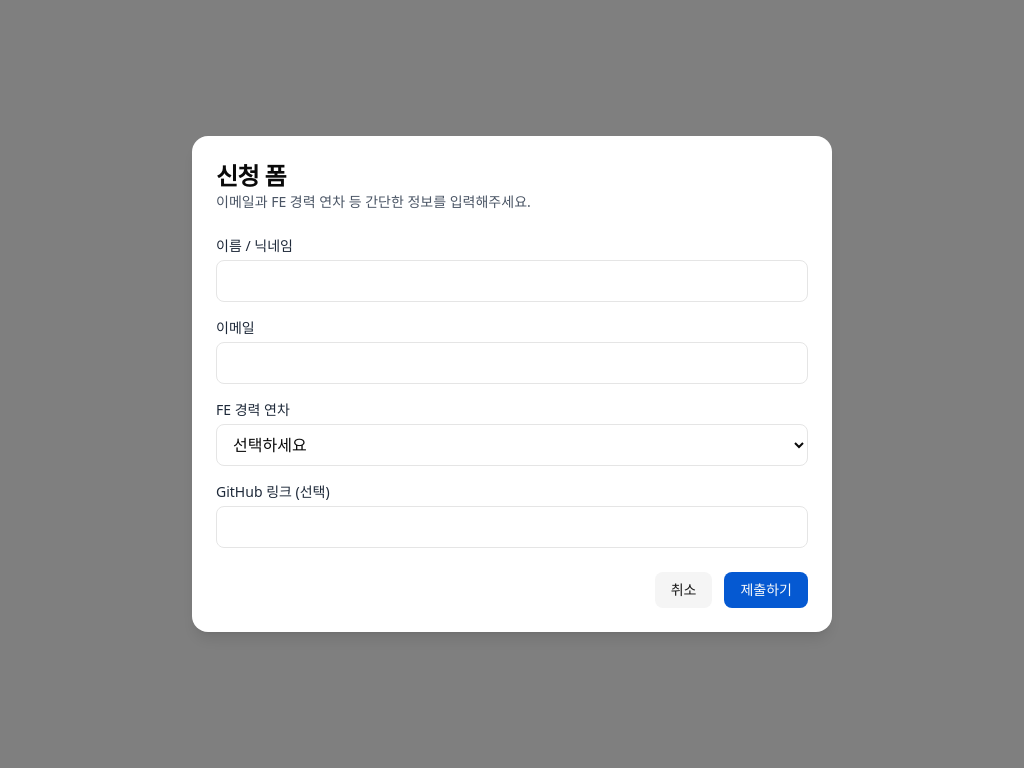
it: DeveloperFormModal › 잘못된 이메일 형식 시 오류를 표시한다
Type "테스트" into the field labelled "이름 / 닉네임" at (512, 281), box left=216, top=260, right=808, bottom=302
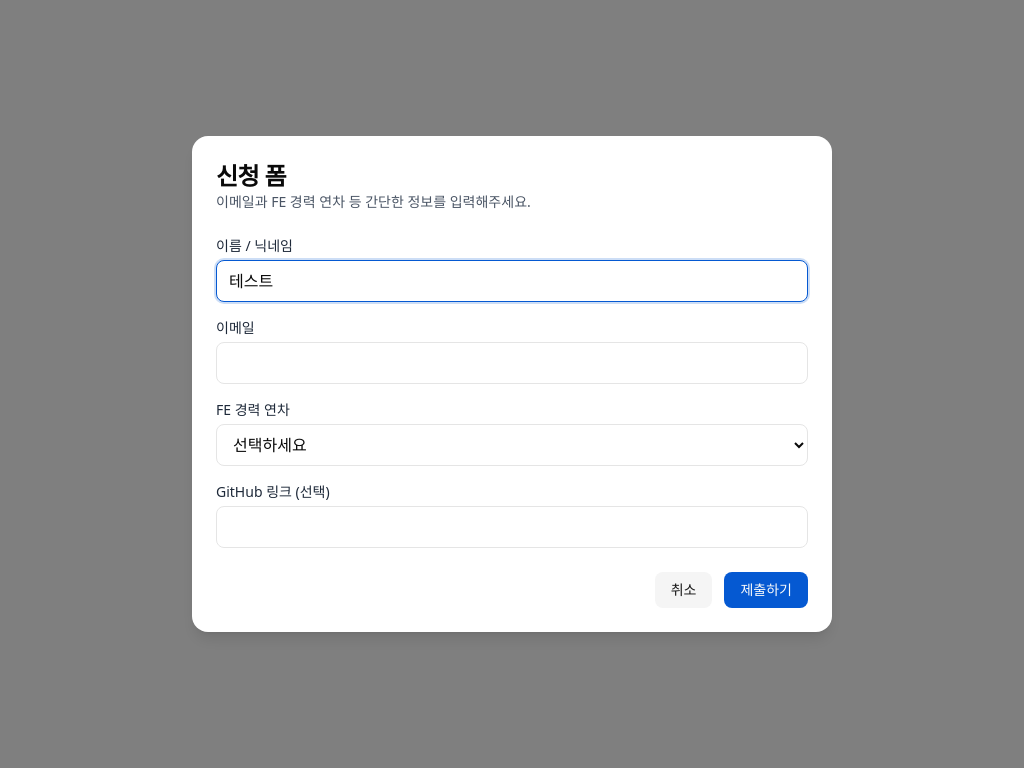
Type "invalid-email" into the field labelled "이메일" at (512, 363), box left=216, top=342, right=808, bottom=384
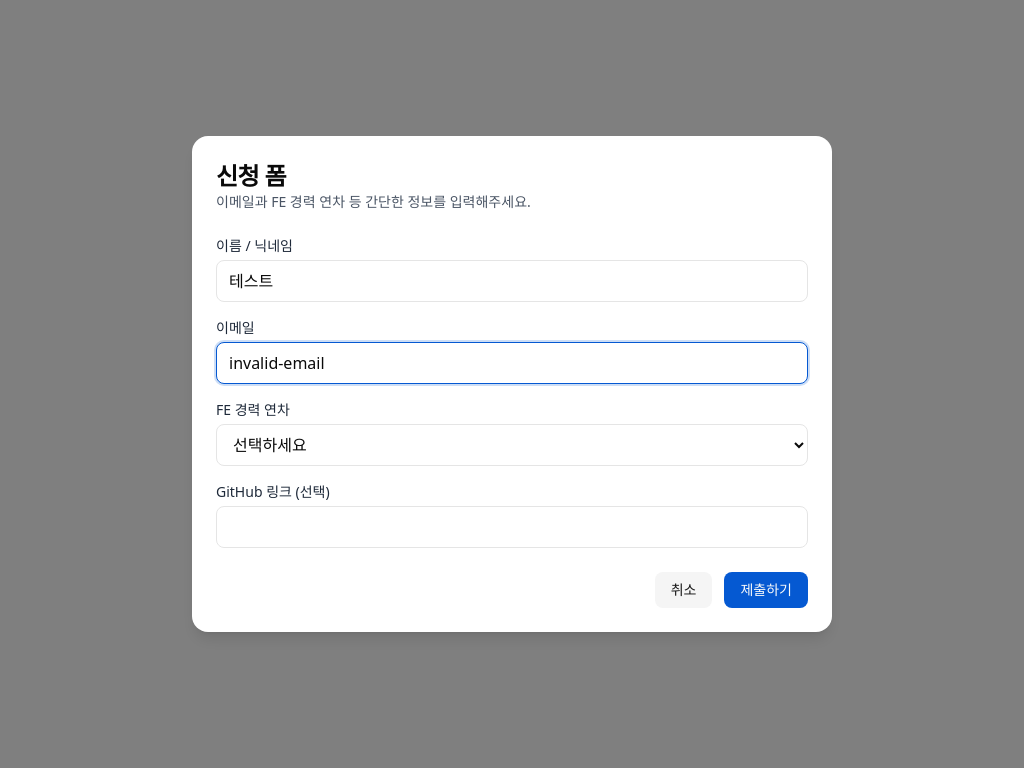
Select "1–3년" in the dropdown labelled "FE 경력 연차" at (512, 445), box left=216, top=424, right=808, bottom=466
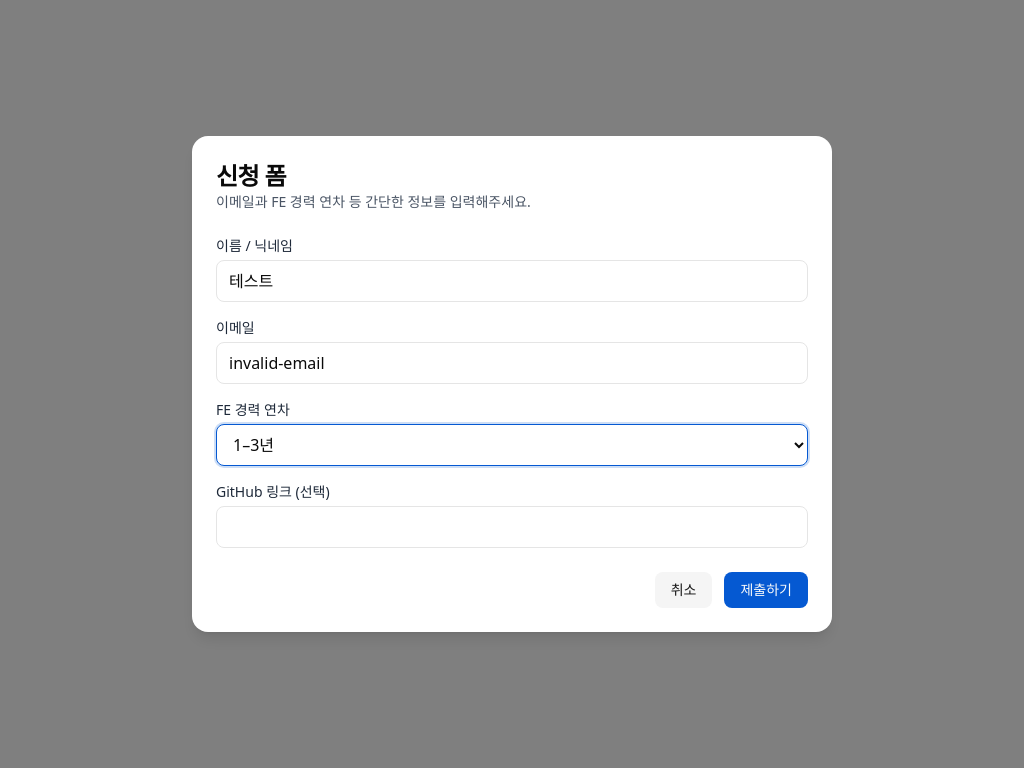
Click the button "제출하기" at (766, 590), box left=724, top=572, right=808, bottom=608
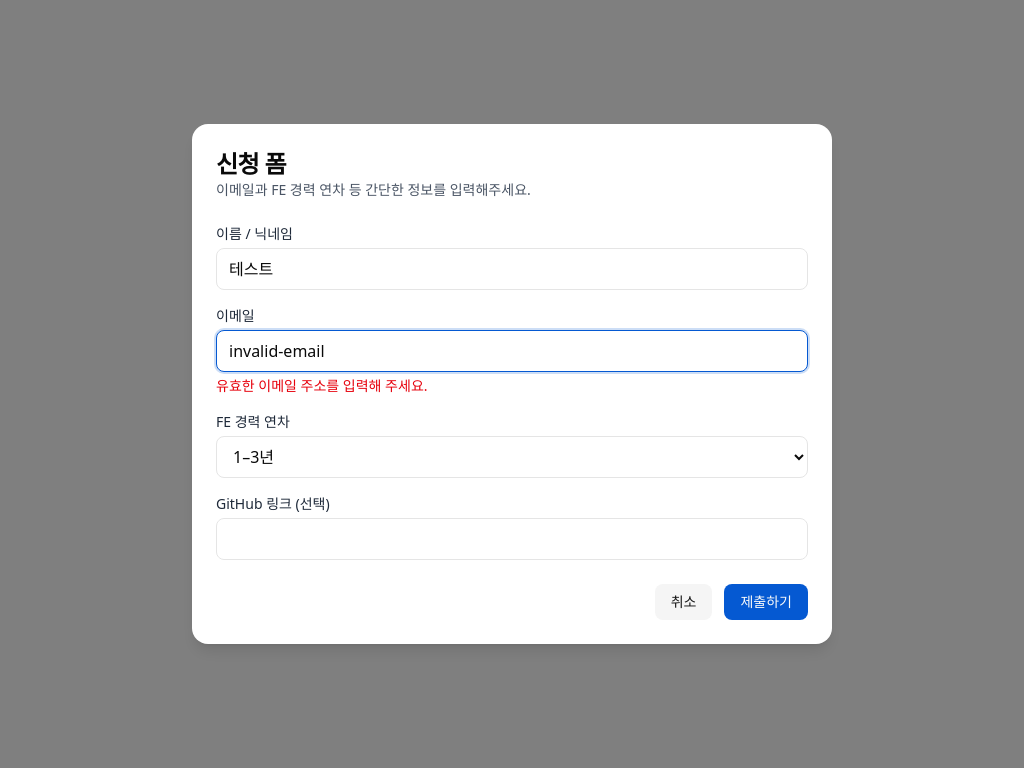
Now the text "유효한 이메일 주소를 입력해 주세요." is shown, box left=216, top=376, right=428, bottom=395
